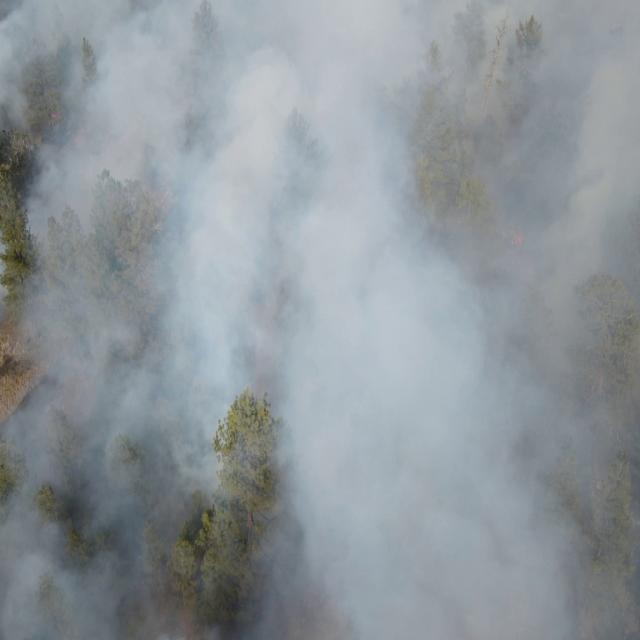fire: (512, 225, 532, 250), (46, 107, 64, 124)
smoke: (0, 0, 640, 640)
